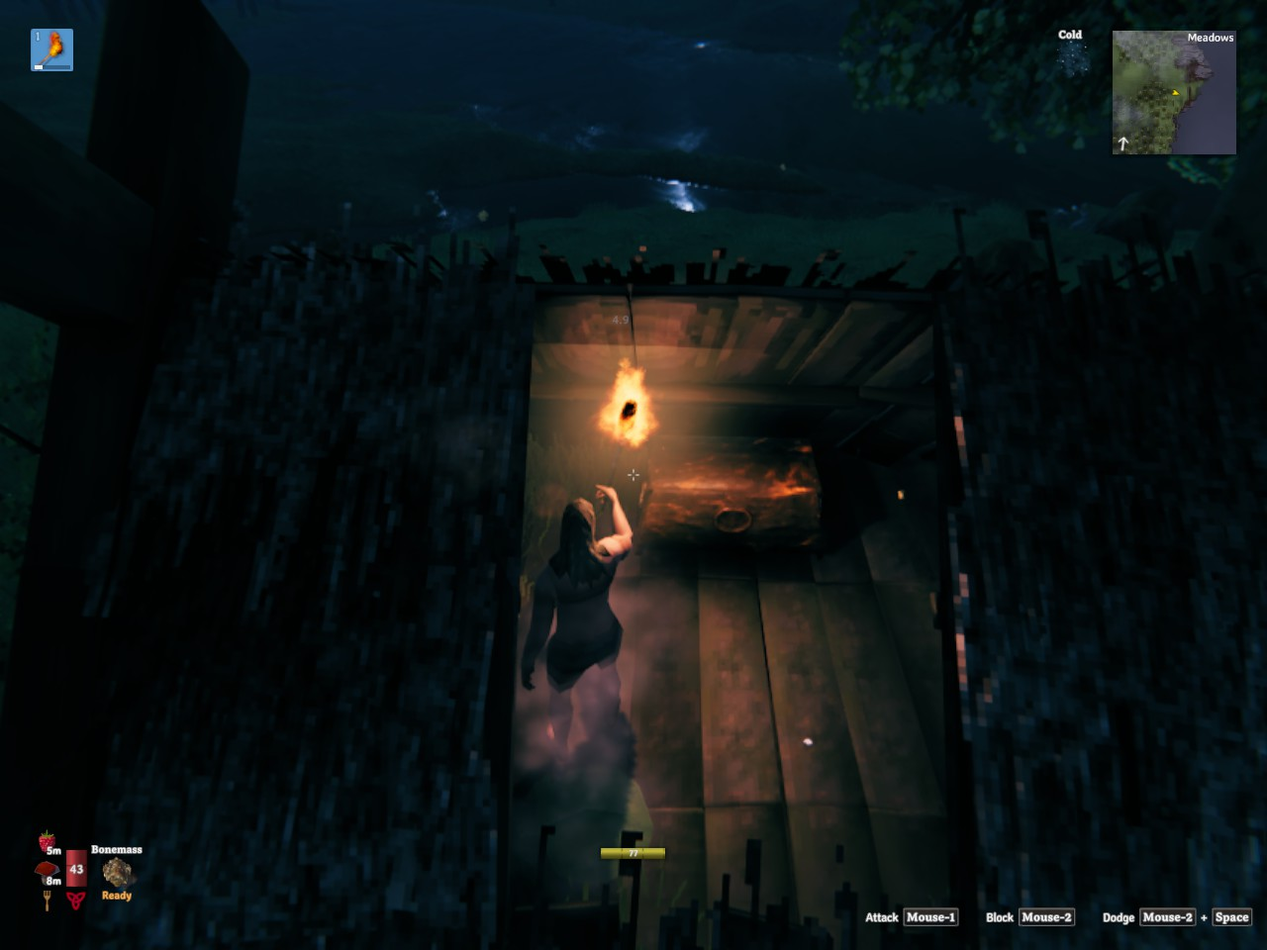Chest: (632, 437, 828, 546)
